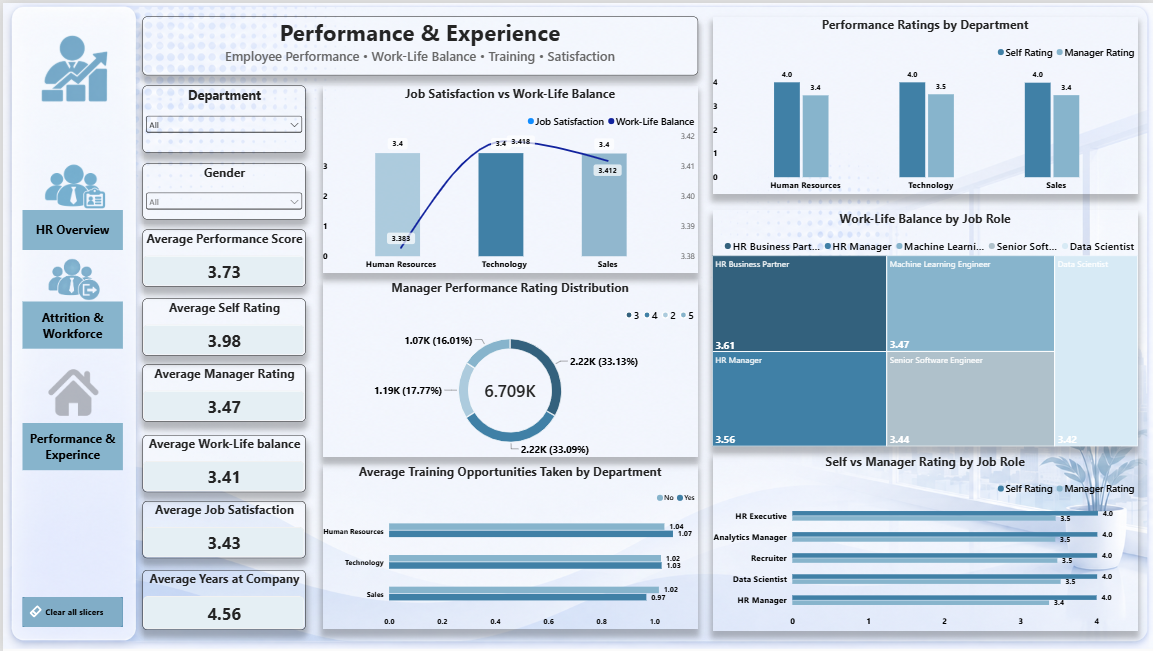

This screenshot's page, from the dashboard's own definition file:
{"tool":"powerbi","page":{"name":"Performance & Experience","canvas":[1920,1080],"ordinal":2},"visuals":[{"type":"textbox","box":[231.4,21.5,925.7,97.8],"z":0},{"type":"slicer","title":"Department","fields":{"Values":["employees_clean.Department"]},"box":[231.4,138.4,272,112.1],"z":1000},{"type":"slicer","title":"Gender","fields":{"Values":["employees_clean.Gender"]},"box":[231.4,267.2,272,93.1],"z":2000},{"type":"actionButton","box":[33.4,990.2,167,50.1],"z":3000},{"type":"actionButton","box":[33.4,346,167,66.8],"z":4000},{"type":"actionButton","box":[33.4,498.7,167,78.7],"z":5000},{"type":"actionButton","box":[33.4,699.1,167,78.7],"z":6000},{"type":"cardVisual","title":"Average Performance Score","fields":{"Data":["performance_clean.Average Performance Score"]},"box":[231.4,377,272,95.4],"z":7000},{"type":"cardVisual","title":"Average Self Rating","fields":{"Data":["performance_clean.Average Self Rating"]},"box":[231.4,491.5,272,95.4],"z":8000},{"type":"cardVisual","title":"Average Years at Company","fields":{"Data":["employees_clean.Average Years at Company"]},"box":[231.4,944.8,272,100.2],"z":9000},{"type":"cardVisual","title":"Average Work-Life balance","fields":{"Data":["performance_clean.Average Work-Life Balance"]},"box":[231.4,720.5,272,95.4],"z":10000},{"type":"cardVisual","title":"Average Job Satisfaction","fields":{"Data":["performance_clean.Average Job Satisfaction"]},"box":[231.4,830.3,272,95.4],"z":11000},{"type":"cardVisual","title":"Average Manager Rating","fields":{"Data":["performance_clean.Average Manager Rating"]},"box":[231.4,603.6,272,95.4],"z":12000},{"type":"image","box":[64.4,412.8,105,95.4],"z":13000},{"type":"image","box":[50.1,262.5,136,83.5],"z":14000},{"type":"image","box":[64.4,608.4,105,83.5],"z":15000},{"type":"donutChart","title":"Manager Performance Rating Distribution","fields":{"Category":["performance_clean.ManagerRating"],"Y":["CountNonNull(performance_clean.PerformanceID)"]},"box":[532.1,460.5,625.1,295.9],"z":16000},{"type":"lineClusteredColumnComboChart","title":"Job Satisfaction vs Work-Life Balance","fields":{"Category":["employees_clean.Department"],"Y":["performance_clean.Average Job Satisfaction"],"Y2":["performance_clean.Average Work-Life Balance"]},"box":[532.1,138.4,625.1,312.6],"z":17000},{"type":"clusteredBarChart","title":"Average Training Opportunities Taken by Department","fields":{"Category":["employees_clean.Department"],"Series":["employees_clean.Attrition"],"Y":["Avg(performance_clean.TrainingOpportunitiesTaken)"]},"box":[532.1,768.3,625.1,276.8],"z":18000},{"type":"treemap","title":" Work-Life Balance by Job Role","fields":{"Group":["employees_clean.JobRole"],"Values":["performance_clean.Average Work-Life Balance"]},"box":[1183.4,346,708.6,393.7],"z":19000},{"type":"clusteredColumnChart","title":"Performance Ratings by Department","fields":{"Category":["employees_clean.Department"],"Y":["performance_clean.Average Self Rating","performance_clean.Average Manager Rating"]},"box":[1183.4,21.5,708.6,295.9],"z":20000},{"type":"clusteredBarChart","title":"Self vs Manager Rating by Job Role","fields":{"Category":["employees_clean.JobRole"],"Y":["performance_clean.Average Self Rating","performance_clean.Average Manager Rating"]},"box":[1183.4,749.2,708.6,295.9],"z":21000},{"type":"image","box":[33.4,40.6,167,131.2],"z":22000}]}

Visuals, with their boxes in screenshot pixels (x1, y1, x2, y2), scaled from the page's 1920x1080 canvas onto the 1153x651 screenshot:
textbox: locate(139, 13, 695, 72)
"Department" slicer: locate(139, 83, 302, 151)
"Gender" slicer: locate(139, 161, 302, 217)
actionButton: locate(20, 597, 120, 627)
actionButton: locate(20, 209, 120, 249)
actionButton: locate(20, 301, 120, 348)
actionButton: locate(20, 421, 120, 469)
"Average Performance Score" cardVisual: locate(139, 227, 302, 285)
"Average Self Rating" cardVisual: locate(139, 296, 302, 354)
"Average Years at Company" cardVisual: locate(139, 570, 302, 630)
"Average Work-Life balance" cardVisual: locate(139, 434, 302, 492)
"Average Job Satisfaction" cardVisual: locate(139, 500, 302, 558)
"Average Manager Rating" cardVisual: locate(139, 364, 302, 421)
image: locate(39, 249, 102, 306)
image: locate(30, 158, 112, 209)
image: locate(39, 367, 102, 417)
"Manager Performance Rating Distribution" donutChart: locate(320, 278, 695, 456)
"Job Satisfaction vs Work-Life Balance" lineClusteredColumnComboChart: locate(320, 83, 695, 272)
"Average Training Opportunities Taken by Department" clusteredBarChart: locate(320, 463, 695, 630)
" Work-Life Balance by Job Role" treemap: locate(711, 209, 1136, 446)
"Performance Ratings by Department" clusteredColumnChart: locate(711, 13, 1136, 191)
"Self vs Manager Rating by Job Role" clusteredBarChart: locate(711, 452, 1136, 630)
image: locate(20, 24, 120, 104)
